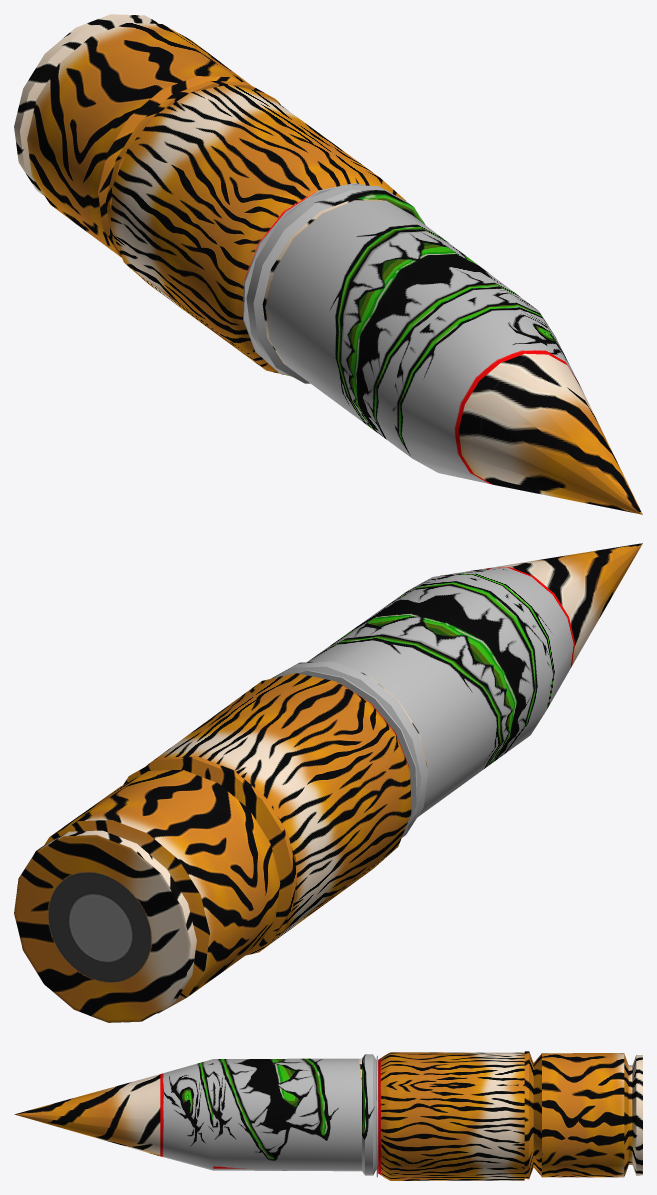
File: Bullet-2_Final.FBX
3 views of the same model, one above another, from view 1: azimuth 30°, elevation 25°; view 2: azimuth 150°, elevation 25°; view 3: azimuth 270°, elevation 25° (orthographic). The views are drawn at different scales.
Parts seen in each view (by area): view 1: Object004, Object002, Object003; view 2: Object003, Object004, Object002; view 3: Object004, Object002, Object003.
Boxes of the visible parts, <box> form: Object004: <box>246,185,642,514</box>; Object002: <box>110,84,405,376</box>; Object003: <box>14,14,280,268</box>; Object003: <box>14,756,297,1022</box>; Object004: <box>271,543,642,837</box>; Object002: <box>146,670,417,955</box>; Object004: <box>14,1054,376,1175</box>; Object002: <box>376,1052,524,1180</box>; Object003: <box>524,1051,642,1179</box>.
Bounding box in the file's own units: 2.83 × 2.85 × 13.82.
Materials: 1 (1 with a texture image).
